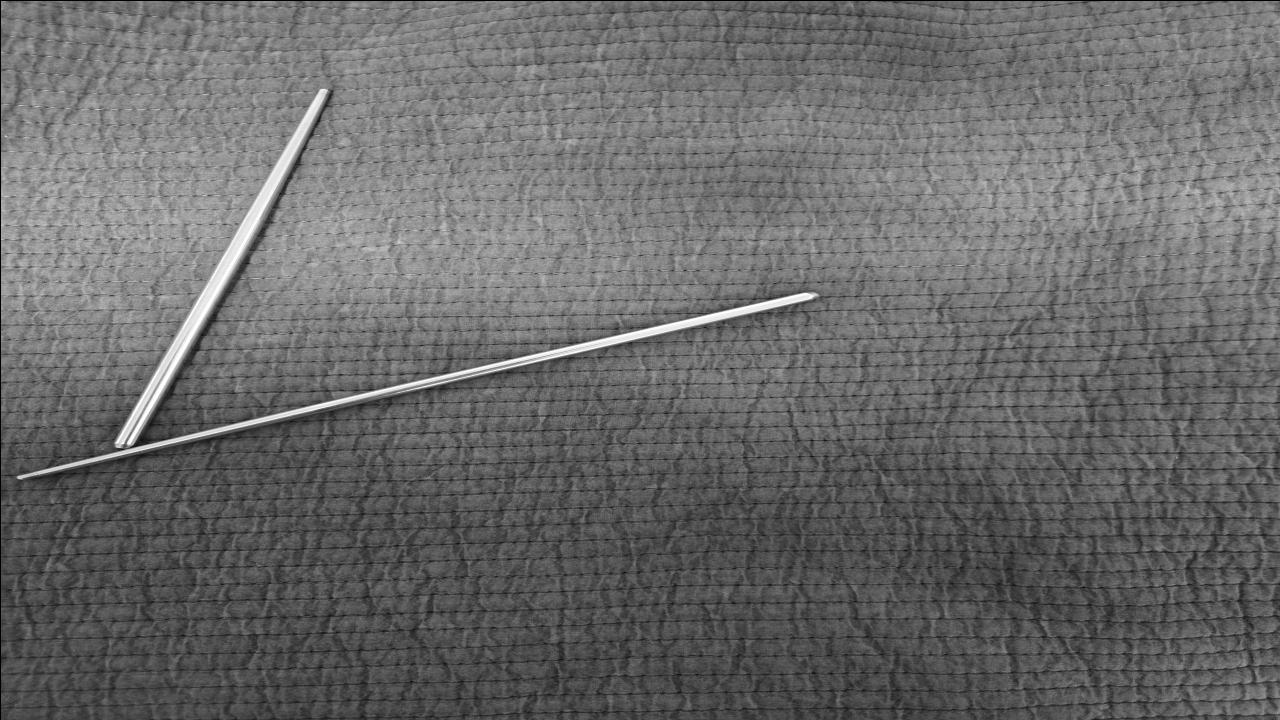chopstick: (5, 282, 832, 486), (102, 81, 348, 455)
